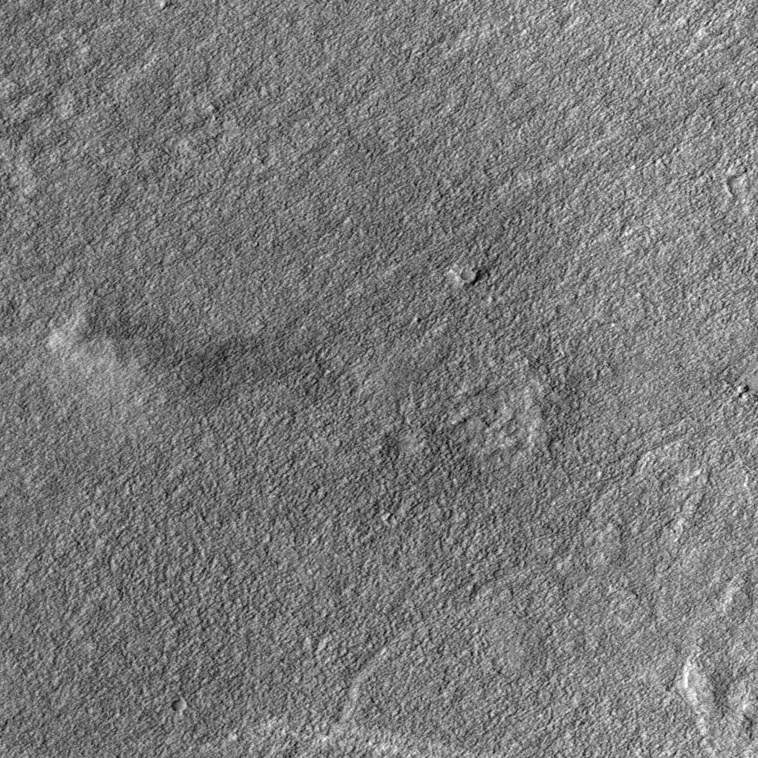dust_devil: (42, 307, 362, 412)
